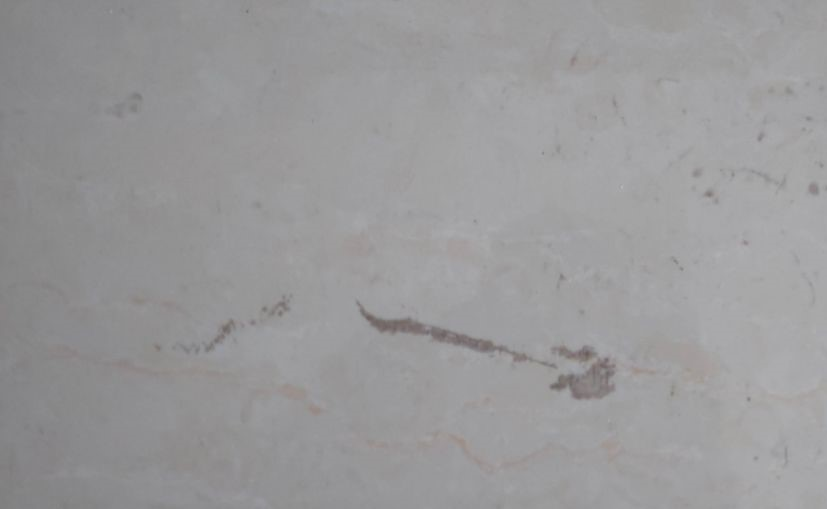grey spot: (356, 301, 616, 399)
